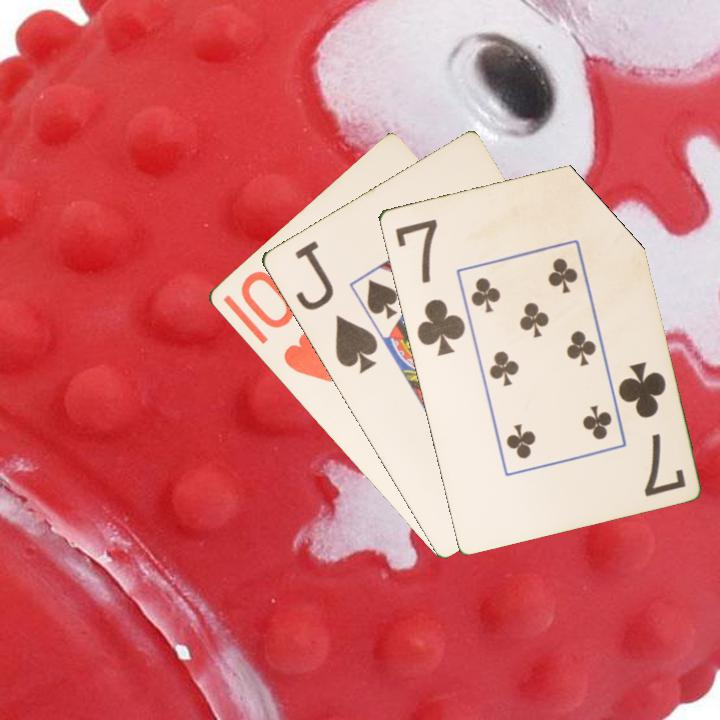10h: (236, 267, 336, 386)
7c: (391, 215, 468, 359), (614, 358, 689, 500)
Js: (290, 237, 381, 376)
